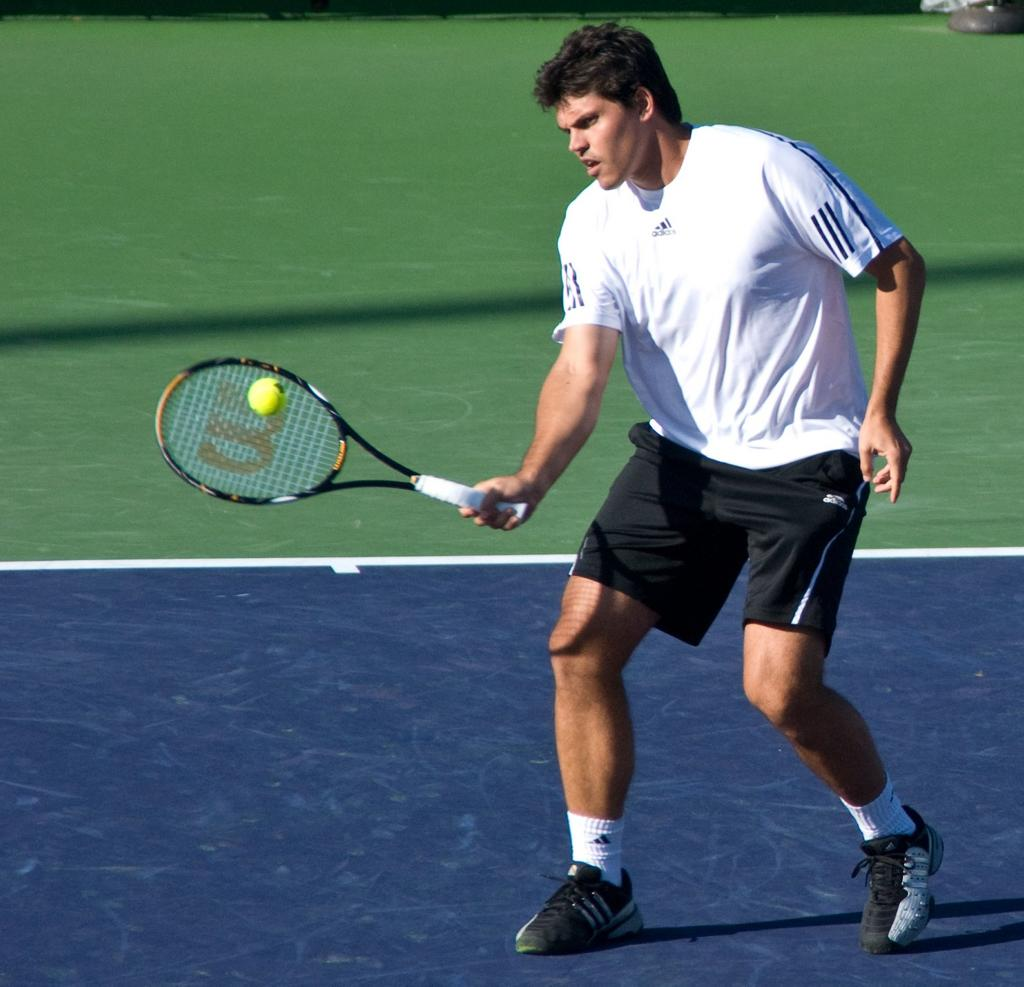face: (554, 96, 640, 192)
